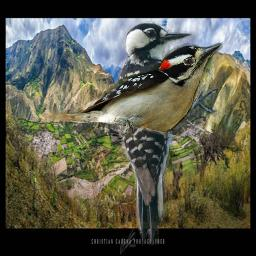Woodpecker: (110, 21, 223, 246), (47, 39, 223, 139)
